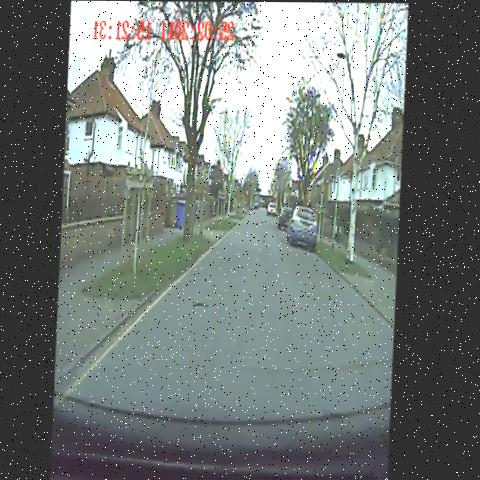pothole: (190, 291, 216, 323), (261, 231, 271, 250), (250, 217, 262, 229)
